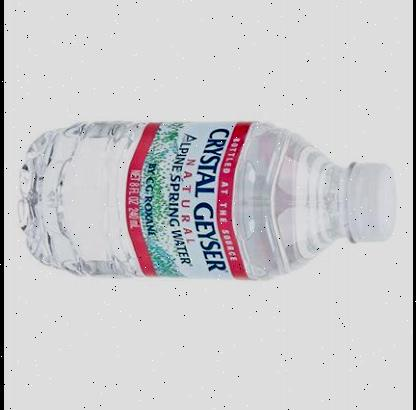Plastic Bottle: (18, 122, 395, 280)
